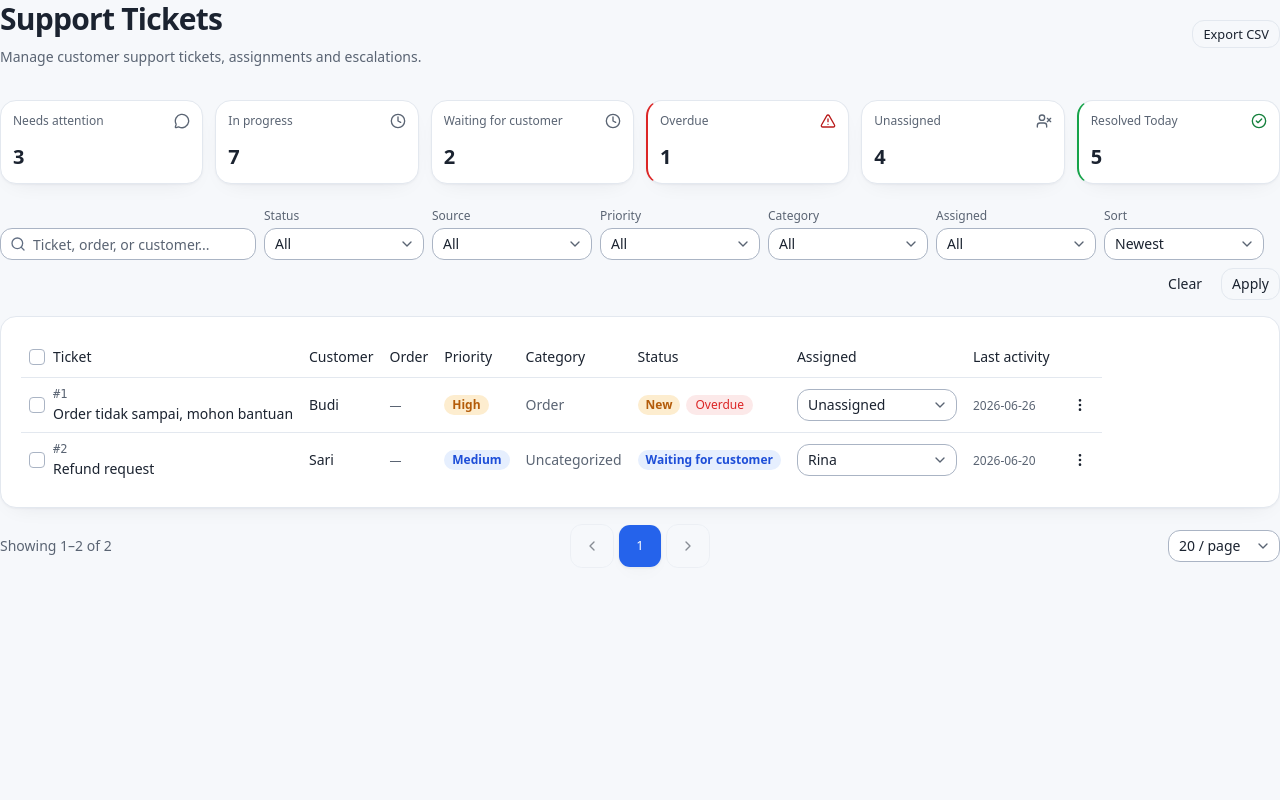
Test case: SupportPage › bulk-closes selected tickets without a duplicate diff-toast on the next refetch
Check: the text "Order tidak sampai, mohon bantuannya untuk dicek ya kak" is shown, box 53,404 -> 293,424
Click the checkbox named "Select ticket #1": (37, 405) 29,397 -> 45,413
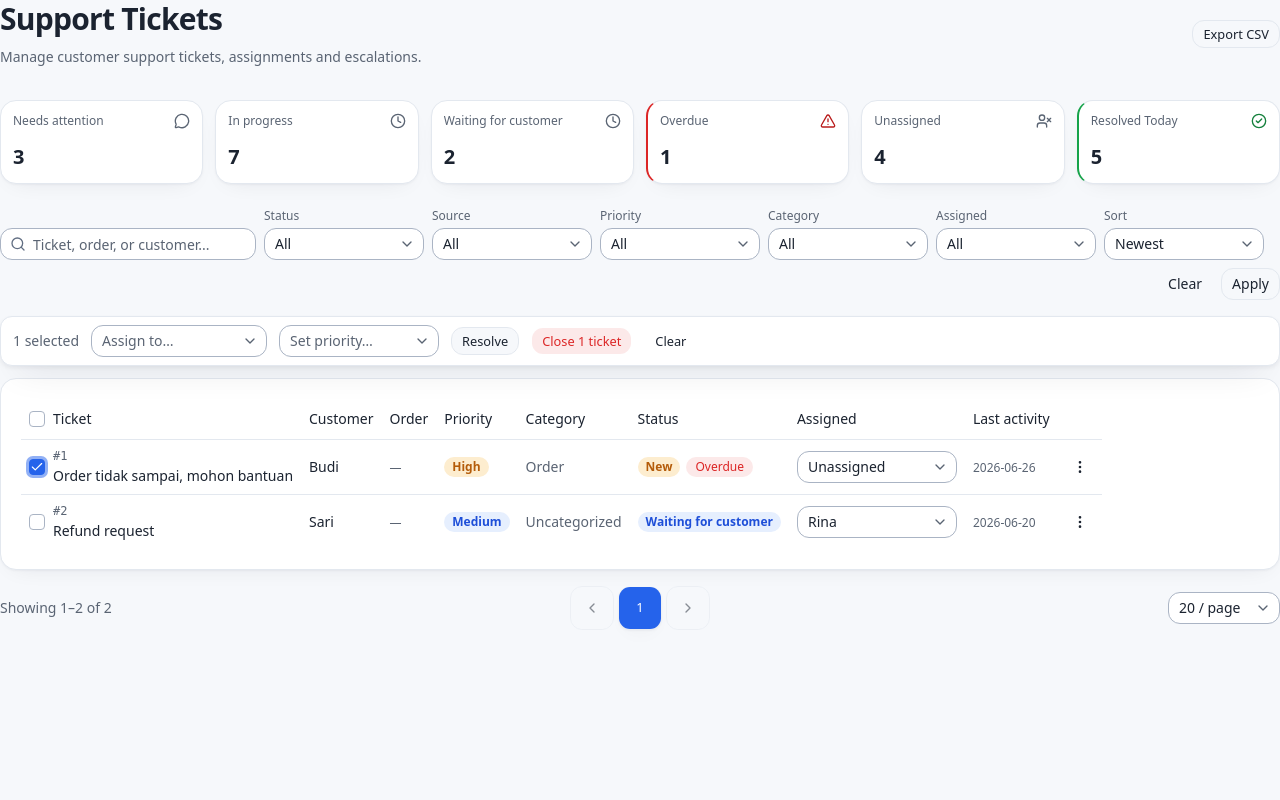
Click the checkbox named "Select ticket #2": (37, 522) 29,514 -> 45,530
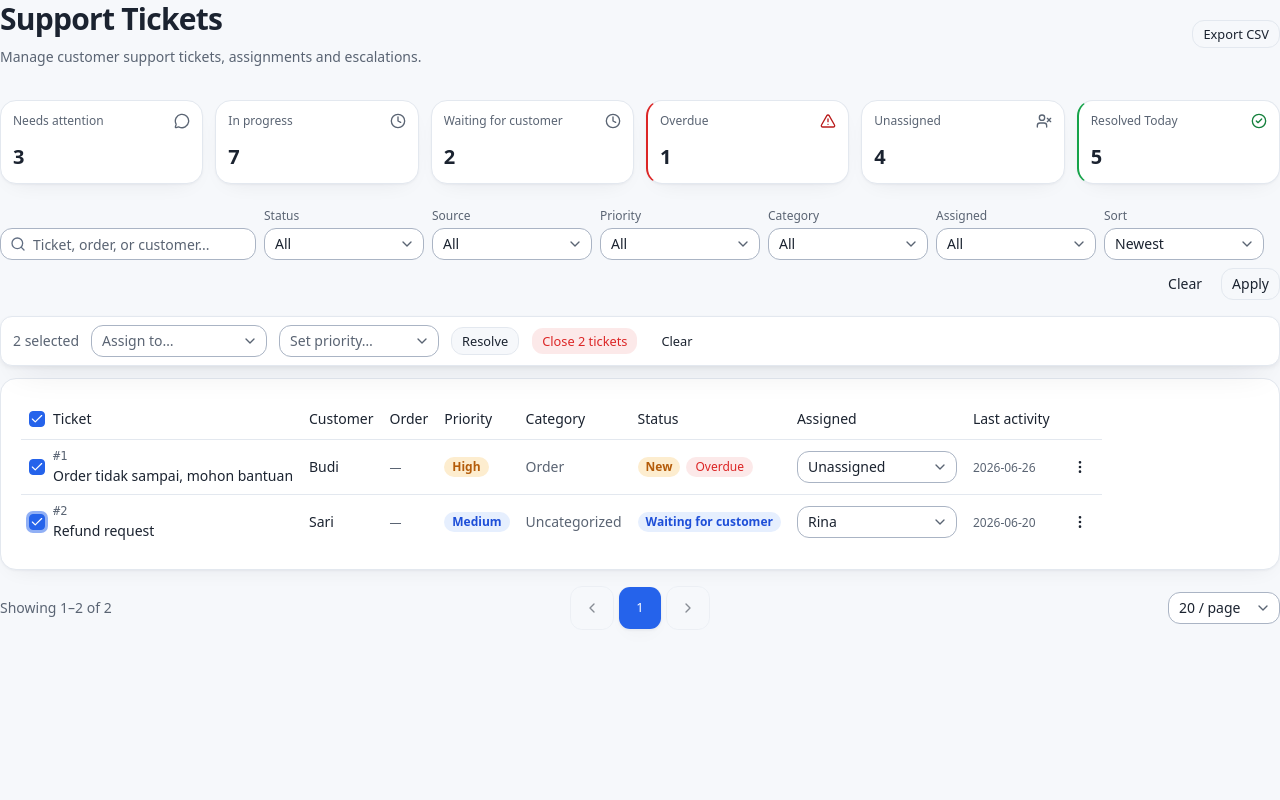
Click the button "Close 2 tickets": (585, 341) 531,327 -> 638,355
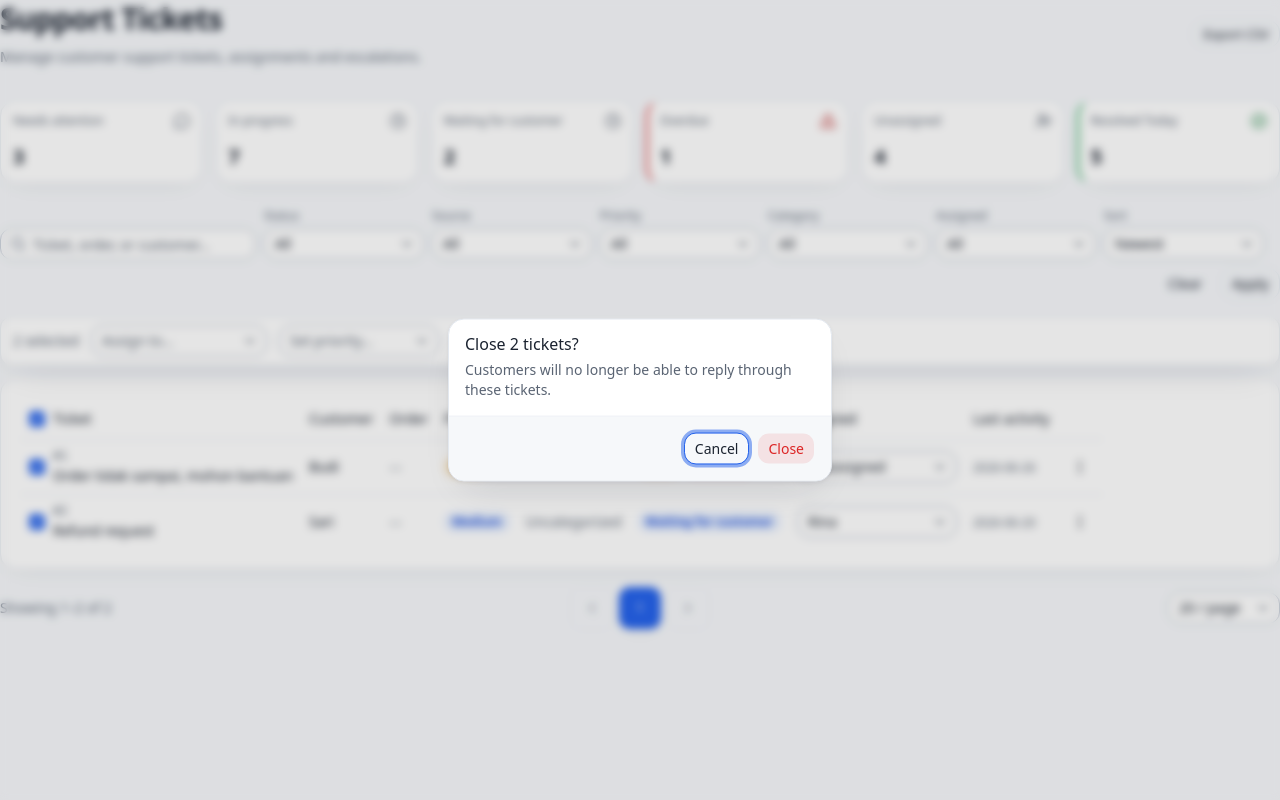
Click the button "Close": (786, 448) 758,432 -> 815,464
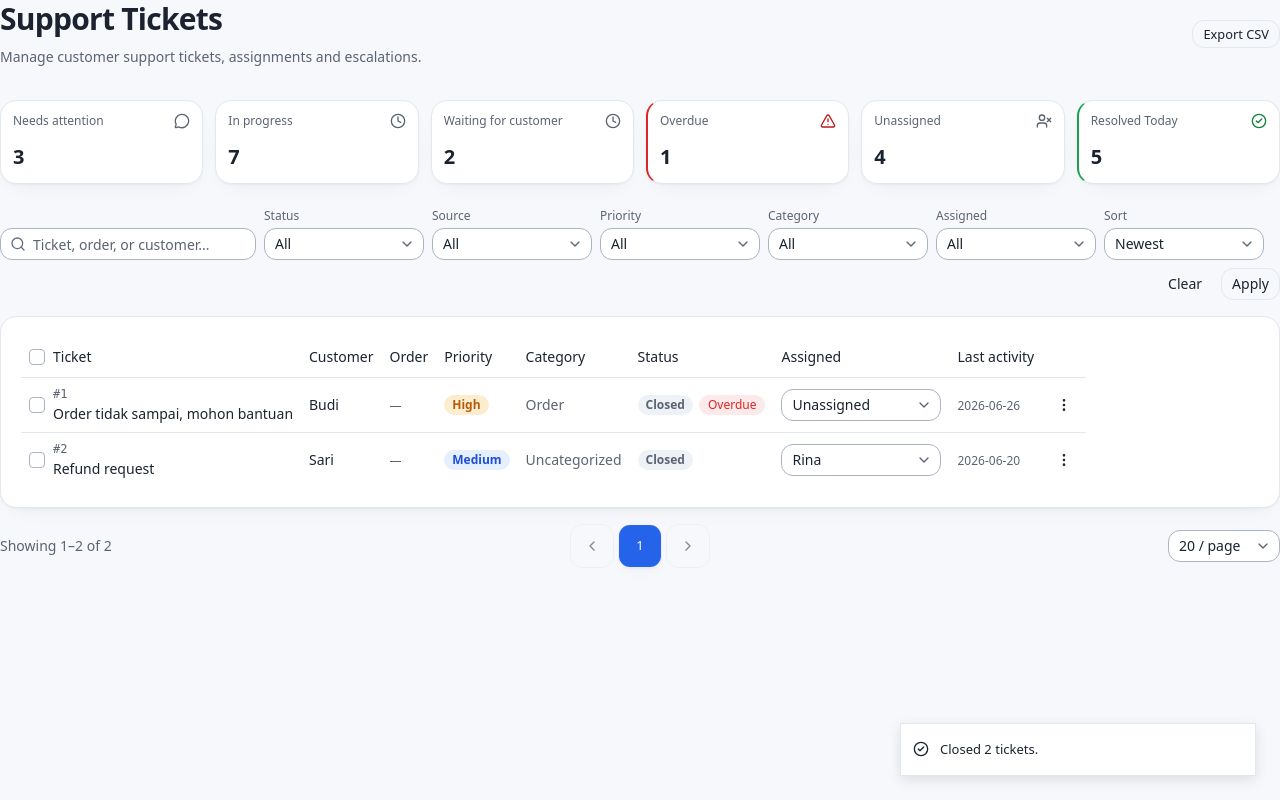
Check: the text "Closed 2 tickets." is shown, box 940,740 -> 1038,759
